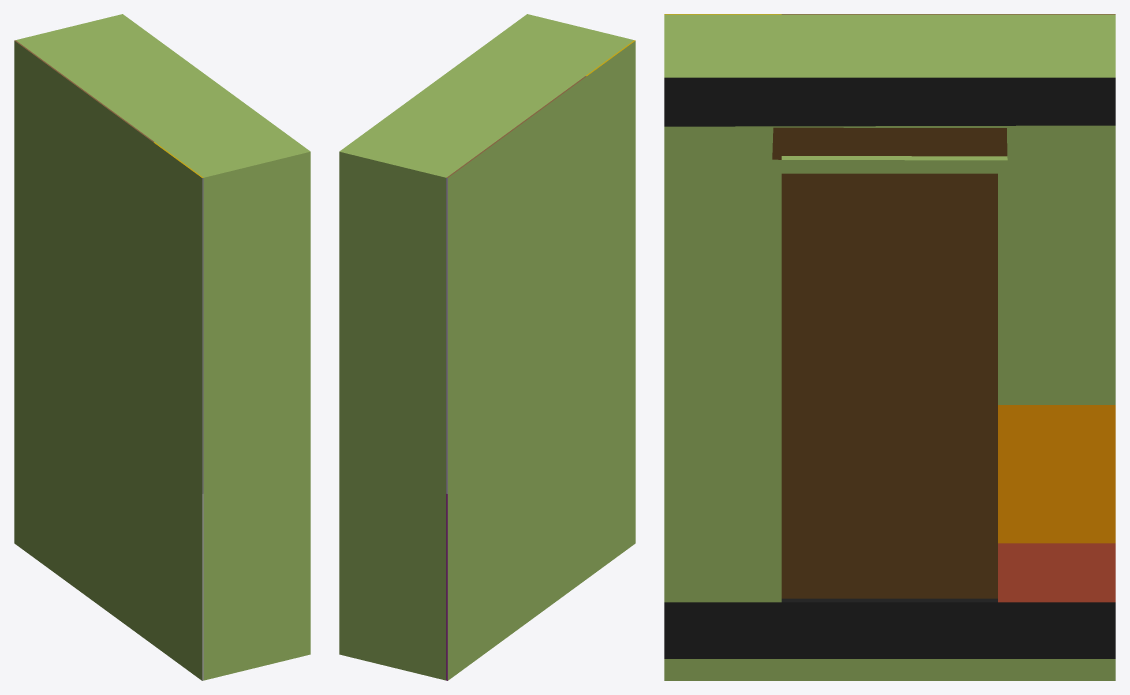
The model's file is ColectaTapitas_DylanT_47131172.fbx.
3 renders of one model, left to right at view 1: azimuth 30°, elevation 25°; view 2: azimuth 150°, elevation 25°; view 3: azimuth 270°, elevation 25°, orthographic. The views are drawn at different scales.
Visible parts, largest first — view 1: Carton; view 2: Carton; view 3: Carton.
Part boxes in pixels (box(x1,y1,x2,y2)): Carton: box(14, 14, 310, 680); Carton: box(339, 14, 635, 680); Carton: box(664, 14, 1115, 680).
Size of the model in its own units: 13.33 by 59 by 40.
1 material, 1 textured.
